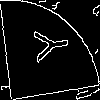Y: (25, 25, 70, 65)
